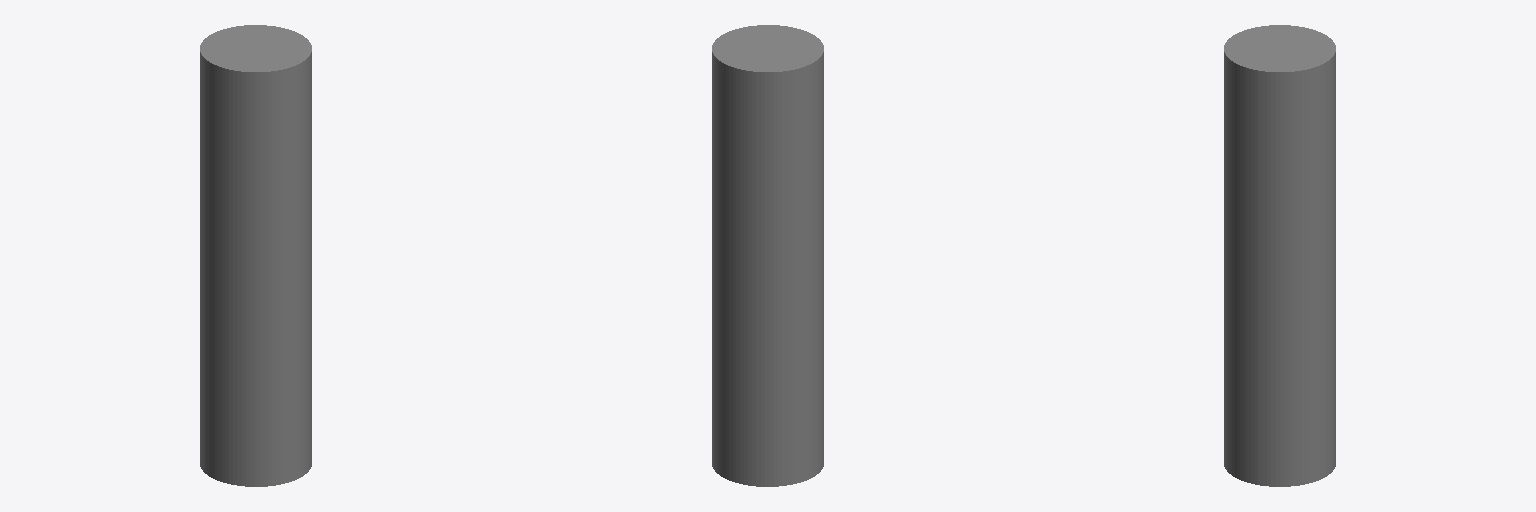
File: Cilindro1.obj
3 views of the same model, side by side, from view 1: azimuth 30°, elevation 25°; view 2: azimuth 150°, elevation 25°; view 3: azimuth 270°, elevation 25° (orthographic).
Parts seen in each view (by area): view 1: mesh_id080; view 2: mesh_id080; view 3: mesh_id080.
Boxes of the visible parts, box(x1,y1,x2,y2) form: mesh_id080: box(200, 25, 311, 486); mesh_id080: box(712, 25, 823, 486); mesh_id080: box(1224, 25, 1335, 486).
Bounding box in the file's own units: 0.1309 × 0.534 × 0.131.